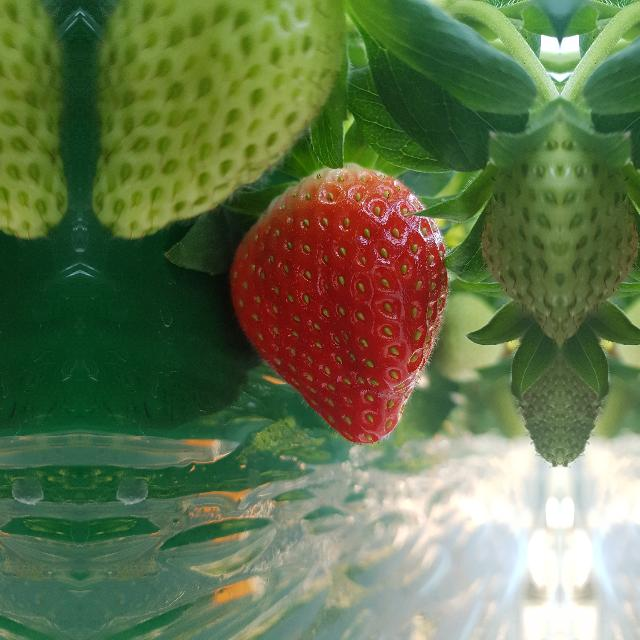Health_100: (228, 162, 448, 444)
Health_25: (95, 0, 342, 238), (478, 107, 560, 346), (560, 106, 640, 345), (0, 0, 64, 238), (502, 330, 560, 464), (560, 330, 618, 464)
